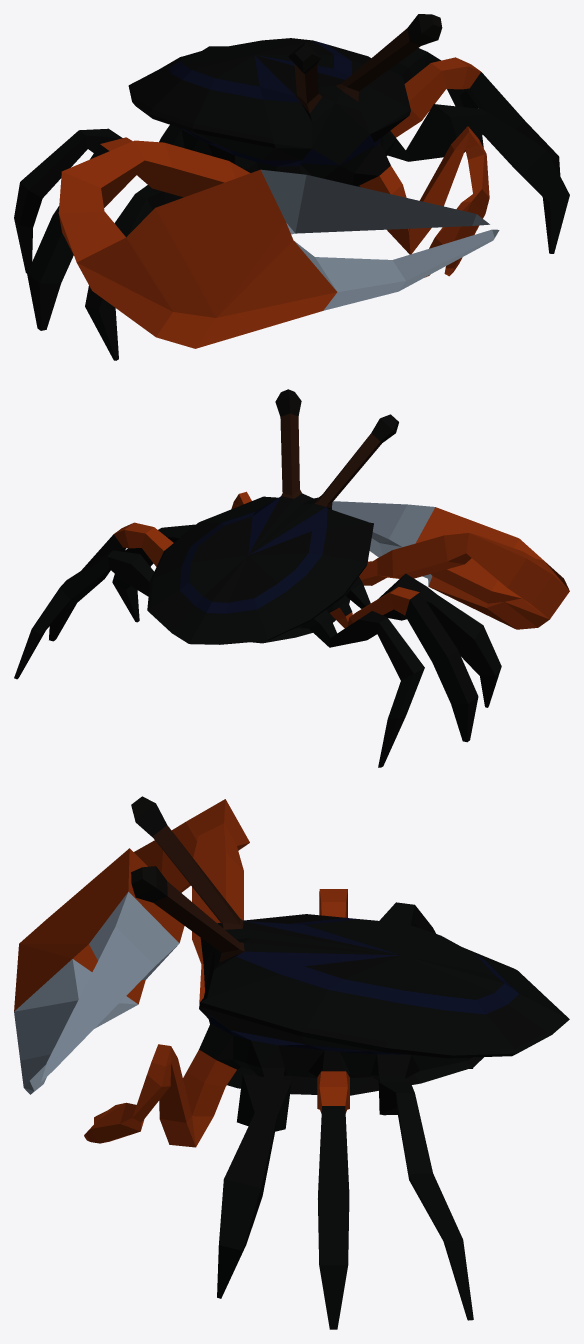
File: SM_Crab_02.fbx
3 views of the same model, one above another, from view 1: azimuth 30°, elevation 25°; view 2: azimuth 150°, elevation 25°; view 3: azimuth 270°, elevation 25° (orthographic). The views are drawn at different scales.
Visible parts, largest first — view 1: Crab_001; view 2: Crab_001; view 3: Crab_001.
Part boxes in pixels (bbox=[...]): Crab_001: bbox=[14, 14, 569, 360]; Crab_001: bbox=[14, 389, 569, 767]; Crab_001: bbox=[14, 796, 569, 1329].
Size of the model in its own units: 169 by 86.56 by 126.
